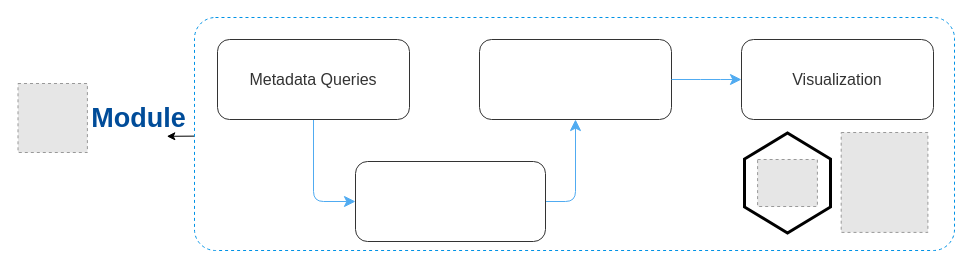
The diagram is 972 pixels wide and 268 high, and some of its shapes have lost their labels. Grey dashed boxes stand in for pictures. Here are the shapes that lost their labels. From the top down, the centre of each, then its label:
At (x=575, y=79): "Data Query".
At (x=450, y=201): "Shiny UI Components".
